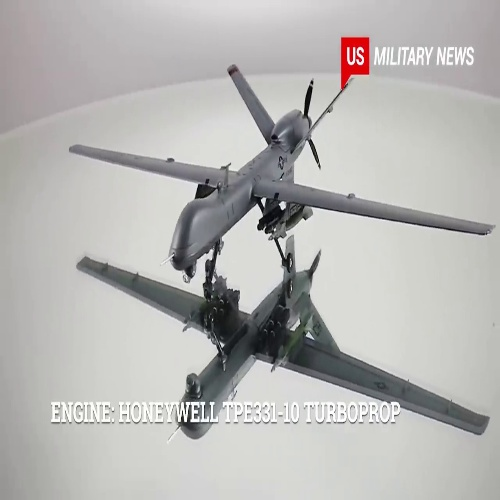uav517: (70, 61, 494, 269)
